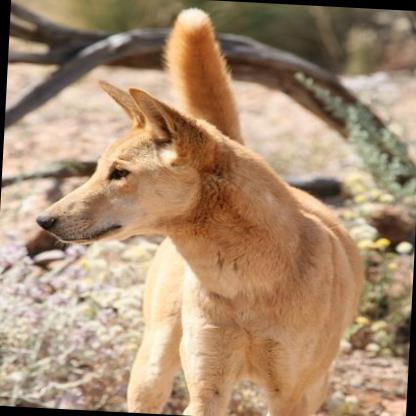dingo: (22, 0, 376, 416)
